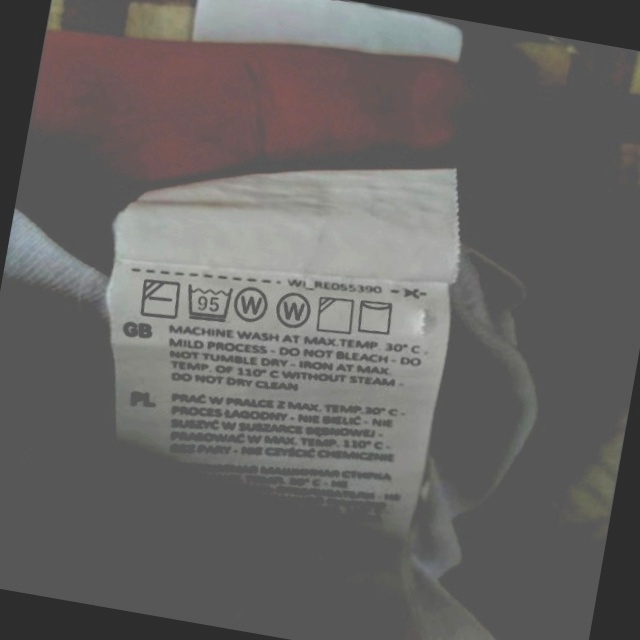95C: (181, 277, 238, 327)
dry_flat_in_shade: (135, 272, 185, 324)
line_dry: (352, 293, 400, 340)
shade_dry: (312, 291, 359, 339)
wet_clean: (271, 287, 317, 335), (230, 279, 275, 328)
